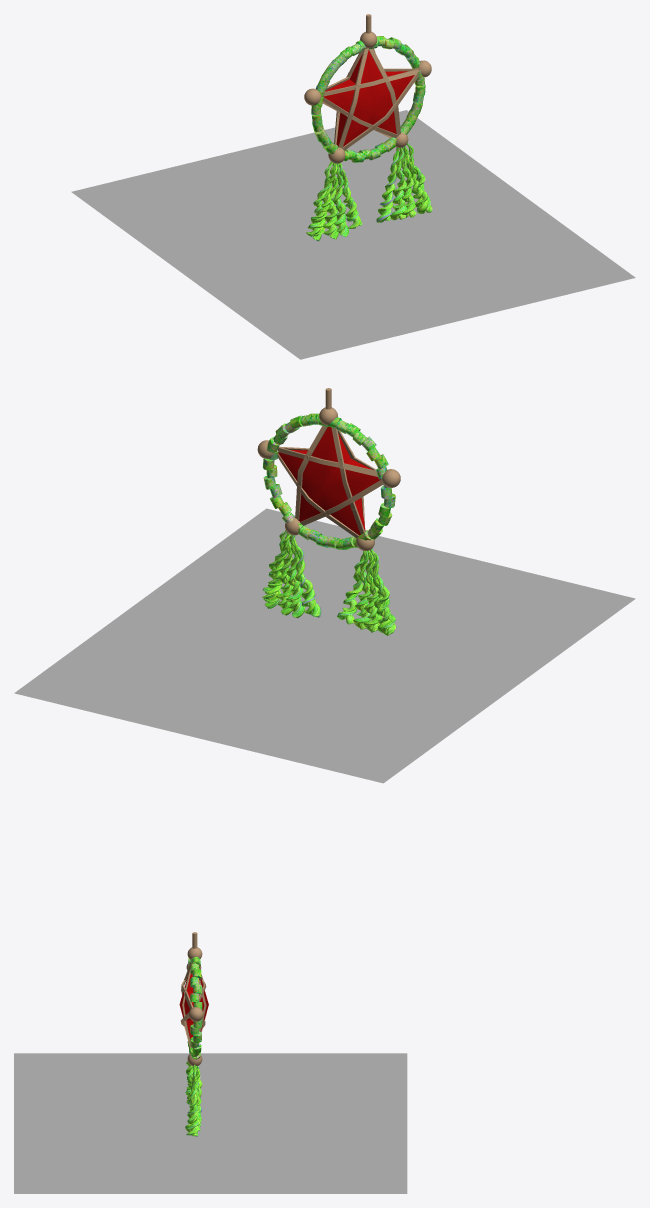
Rendered from Parol_multiple.fbx.
3 views of the same model, one above another, from view 1: azimuth 30°, elevation 25°; view 2: azimuth 150°, elevation 25°; view 3: azimuth 270°, elevation 25° (orthographic). The views are drawn at different scales.
Parts seen in each view (by area): view 1: pPlane1, polySurface2335, polySurface2378, polySurface2341; view 2: pPlane1, polySurface2335, polySurface2378, polySurface2341; view 3: pPlane1, polySurface2335, polySurface2341, polySurface2378.
Boxes of the visible parts, x1,y1,x2,y2 form: pPlane1: [71, 110, 635, 359]; polySurface2335: [306, 143, 432, 241]; polySurface2378: [323, 50, 414, 146]; polySurface2341: [311, 36, 425, 162]; pPlane1: [14, 508, 635, 783]; polySurface2335: [262, 530, 396, 635]; polySurface2378: [278, 426, 380, 535]; polySurface2341: [263, 413, 395, 549]; pPlane1: [14, 1053, 407, 1193]; polySurface2335: [185, 1041, 202, 1136]; polySurface2341: [187, 956, 202, 1059]; polySurface2378: [179, 974, 208, 1038].
Size of the model in its own units: 2.25 by 1.64 by 4.22.
11 materials, 5 textured.
